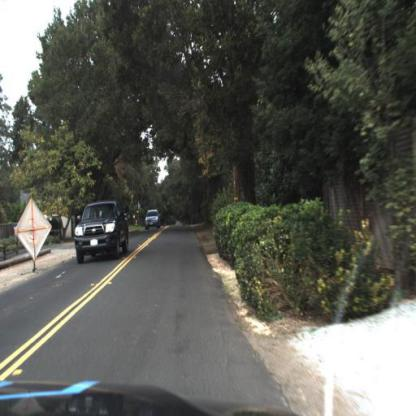car: (72, 201, 133, 266), (144, 208, 162, 234)
